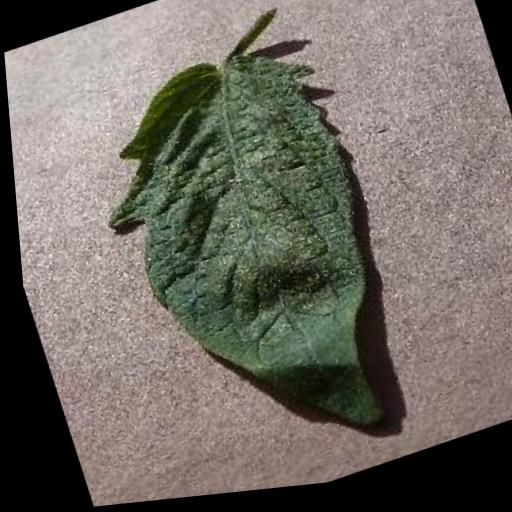Spider Mites: (67, 28, 418, 499)
